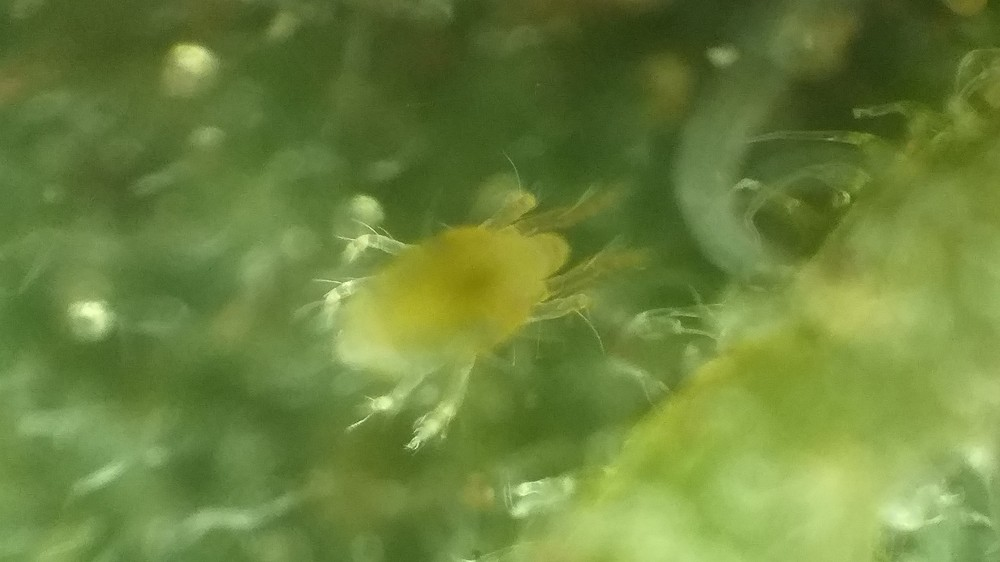Aracnido Rojo: (274, 161, 707, 461)
